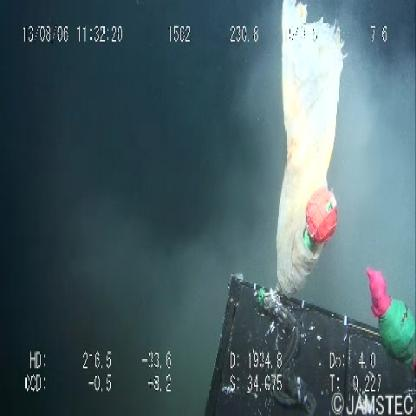Rov: (196, 262, 416, 416)
Rác: (269, 3, 350, 304)
